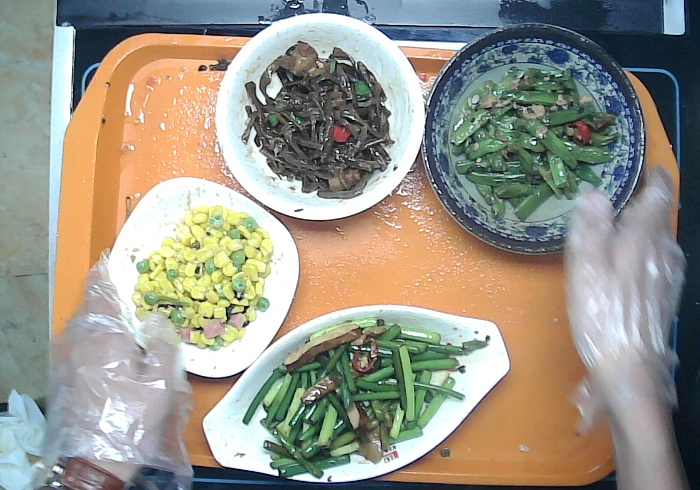ZNLD-Qing_Hua_Wan: (422, 21, 647, 261)
ZNLD-Si_Fang_Wan: (111, 177, 302, 379)
ZNLD-Tang_Wan: (215, 11, 425, 222)
ZNLD-Yu_Pan: (198, 300, 510, 483)
